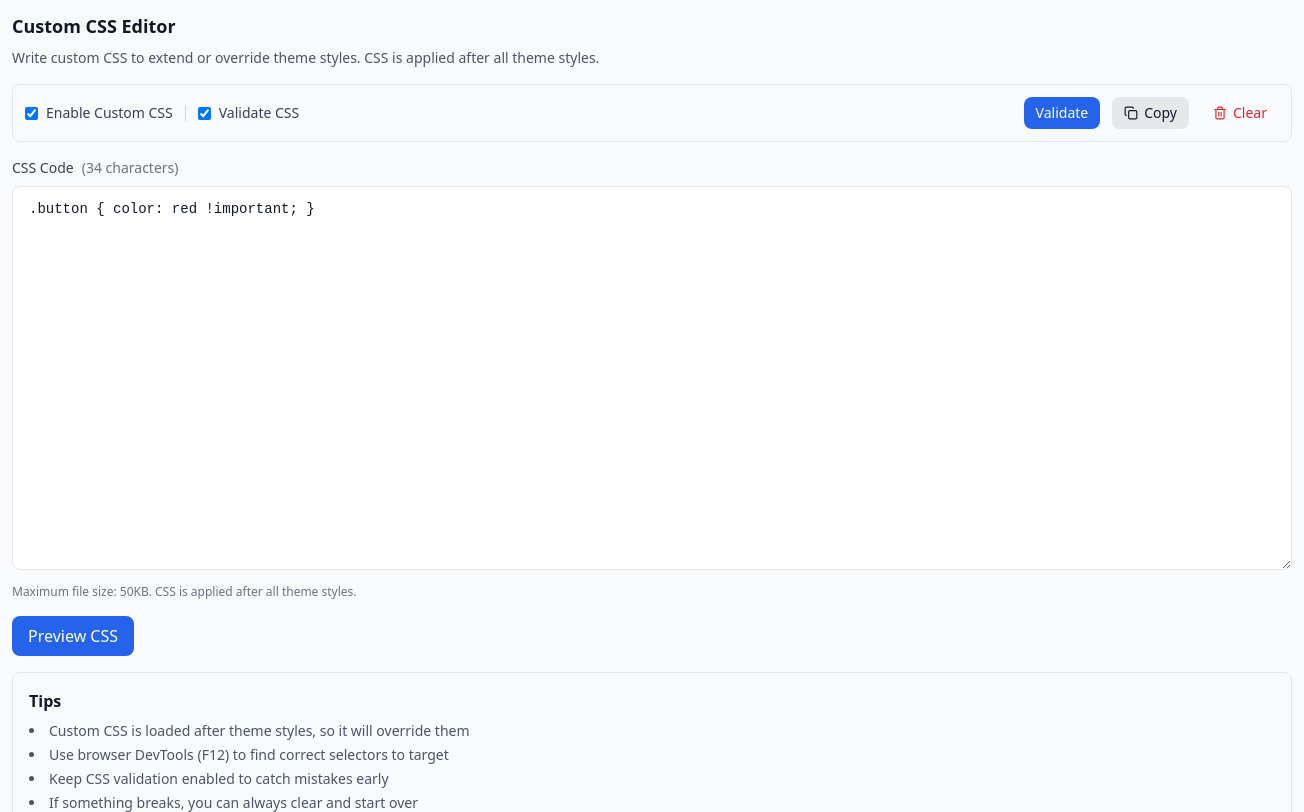
Test: CustomCSSEditor › CSS Validation › should validate CSS with !important warning
Click the button "Validate" at coordinates (1062, 113), box [1024,97,1100,129]
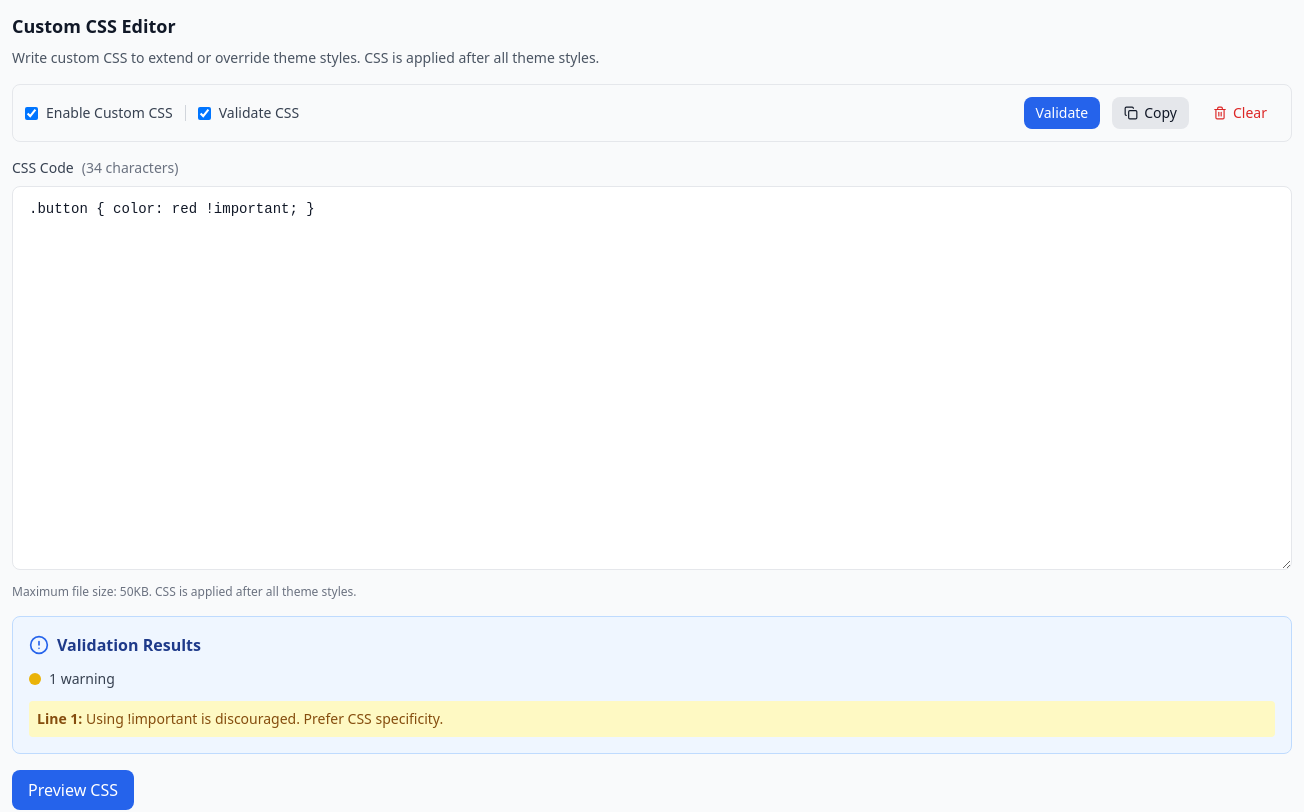
Expected: the text "Using !important is discouraged" is shown, [86,709,443,728]
